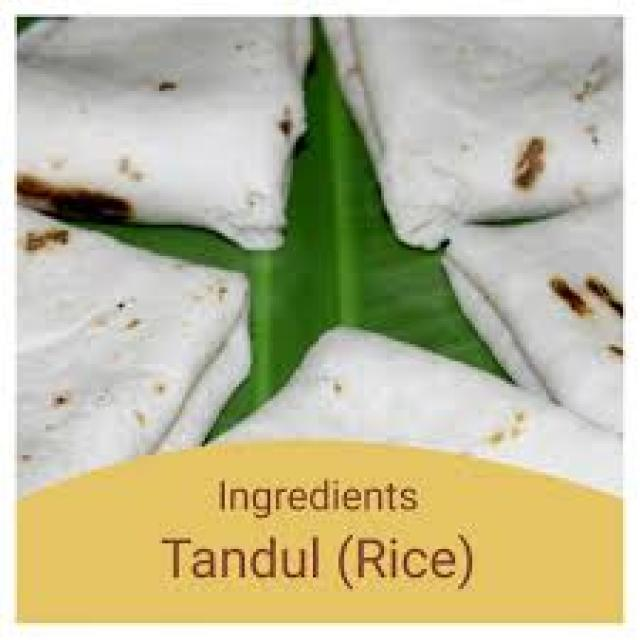RICE BHAKRI: (12, 4, 323, 263), (315, 18, 624, 265), (206, 320, 623, 499), (10, 199, 255, 497)
